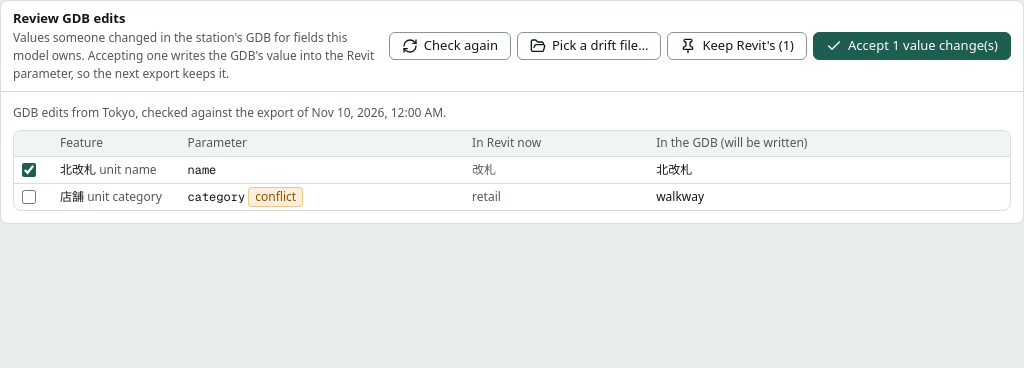
DriftPanel keep wiring › shows honest no-values-kept copy when every ticked row is skipped
Click the button "Keep Revit's (1)". click: (737, 46)
box: [668,32,807,60]
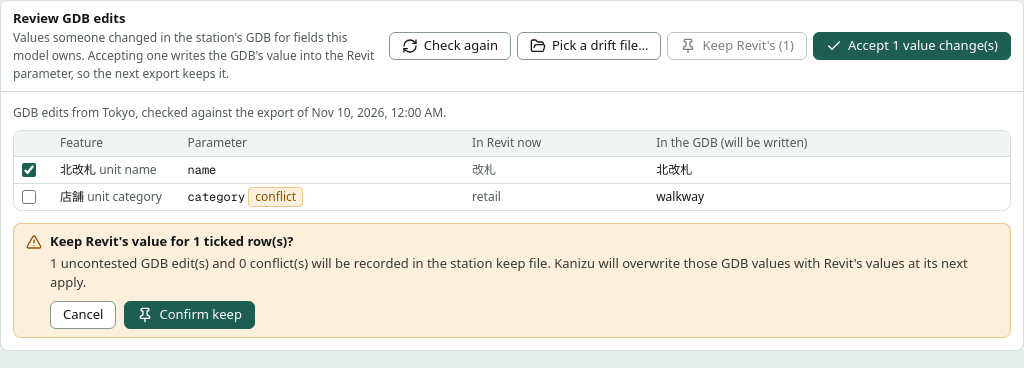
Click the button "Confirm keep". click: (190, 314)
box: [124,300,255,328]
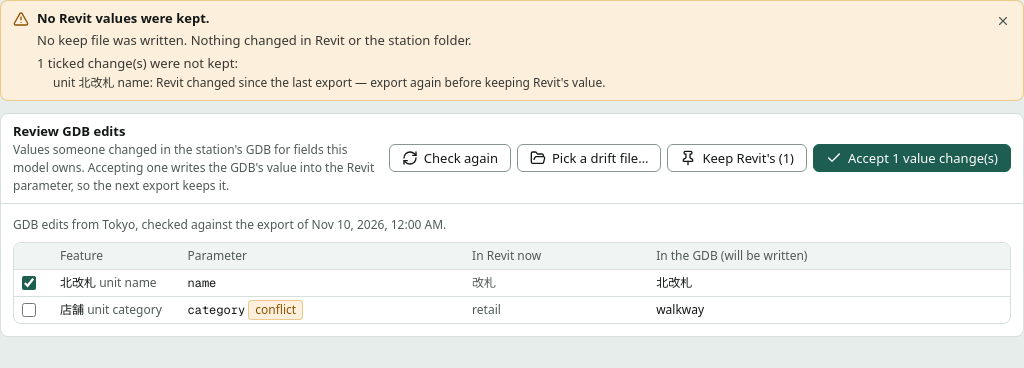
Now the text "No Revit values were kept." is shown, box [37,9,210,27]
Now the text "No keep file was written." is shown, box [37,30,472,48]
Now the text "Revit changed since the last export" is shown, box [53,74,605,90]
